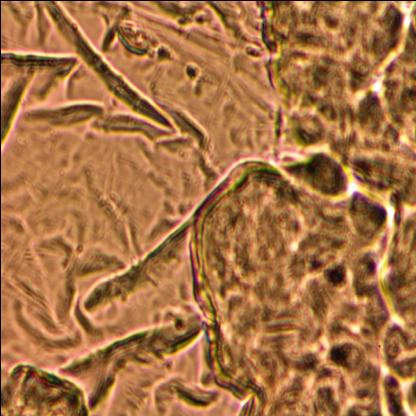Normal: (195, 0, 416, 411)
